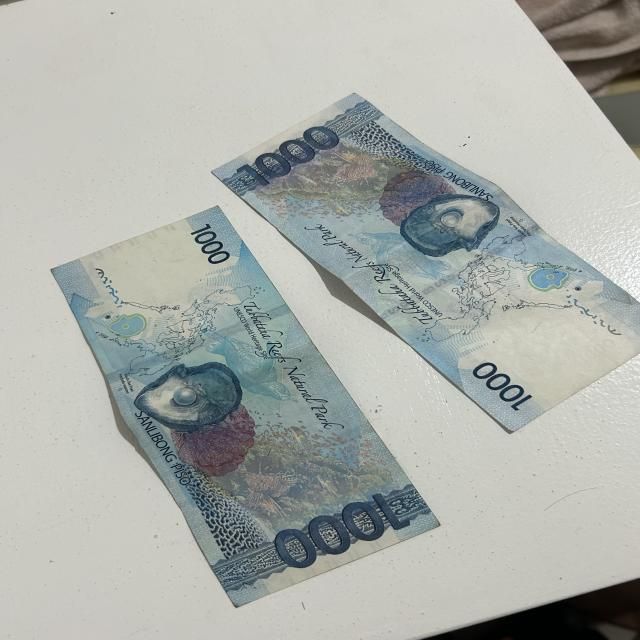1000_pearl: (136, 362, 244, 428), (398, 195, 501, 254)
1000_pearl_watermark: (104, 311, 153, 341), (527, 265, 569, 295)
